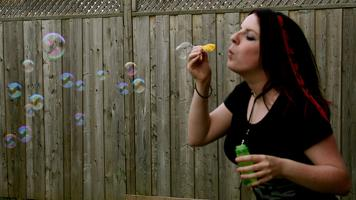person: (184, 11, 349, 198)
